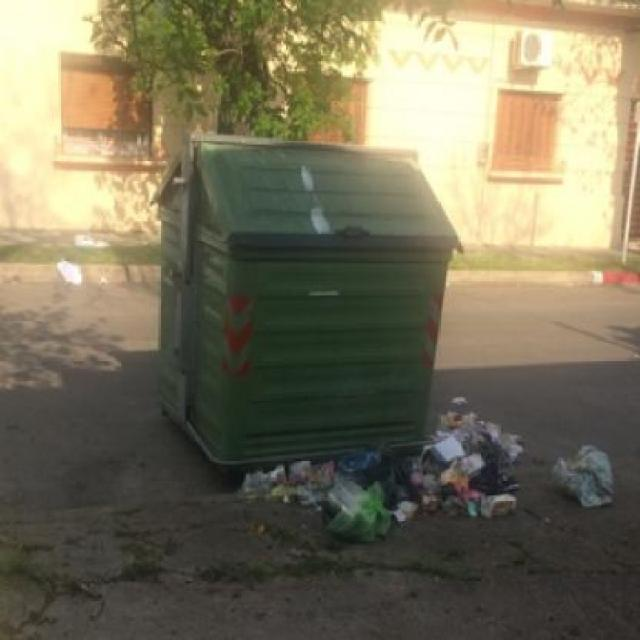garbage: (232, 456, 623, 525), (431, 401, 528, 464), (54, 251, 86, 284)
